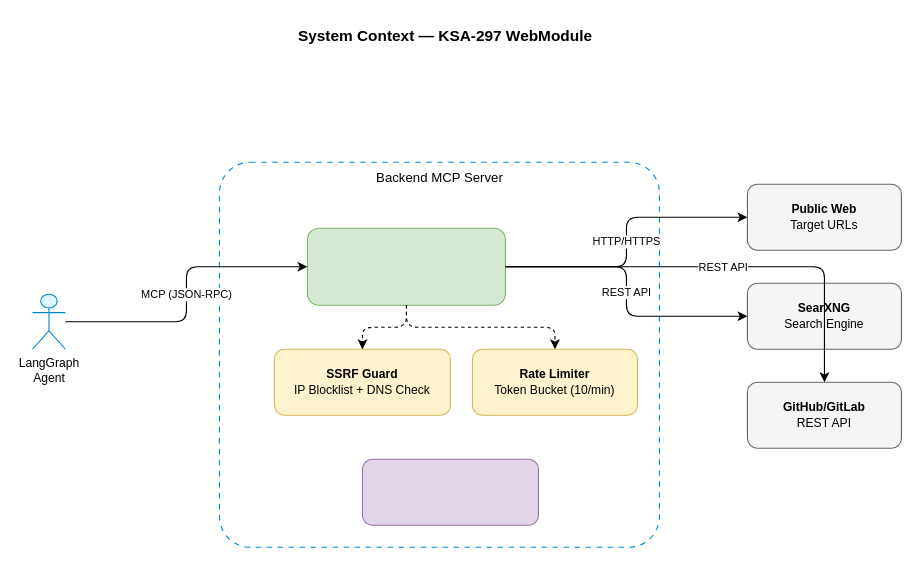
Some shapes in this 921 by 567 pixel diagram are drawn without their labels. Here are the shapes that lost their labels. From the top down, the centre of each, then its label:
At (x=405, y=266): "WebModule Internet/Network Tools".
At (x=449, y=491): "Playwright Headless Chromium".
